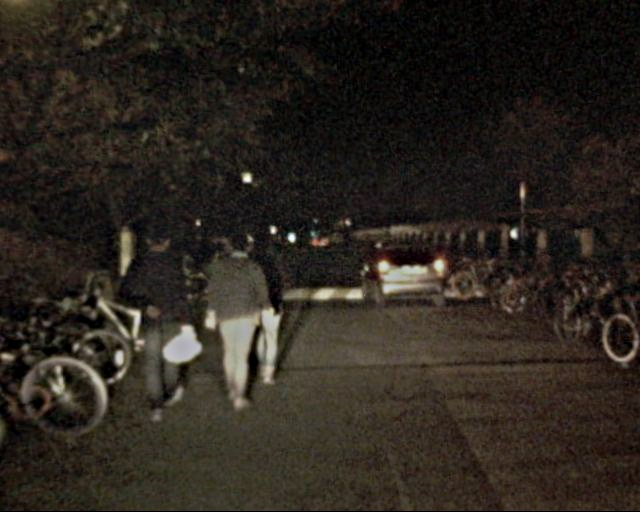person: (123, 220, 200, 421), (196, 232, 273, 406), (230, 229, 296, 389)
